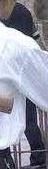hard-hat: (0, 0, 24, 22)
